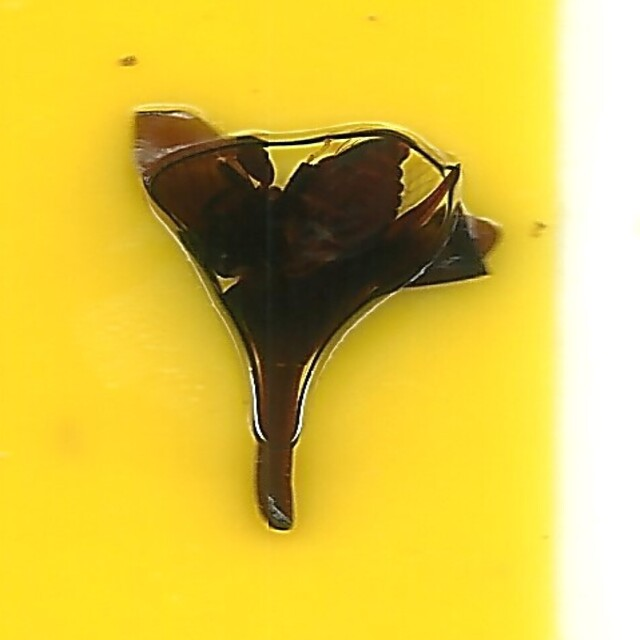Hemiptera: (134, 107, 506, 533)
